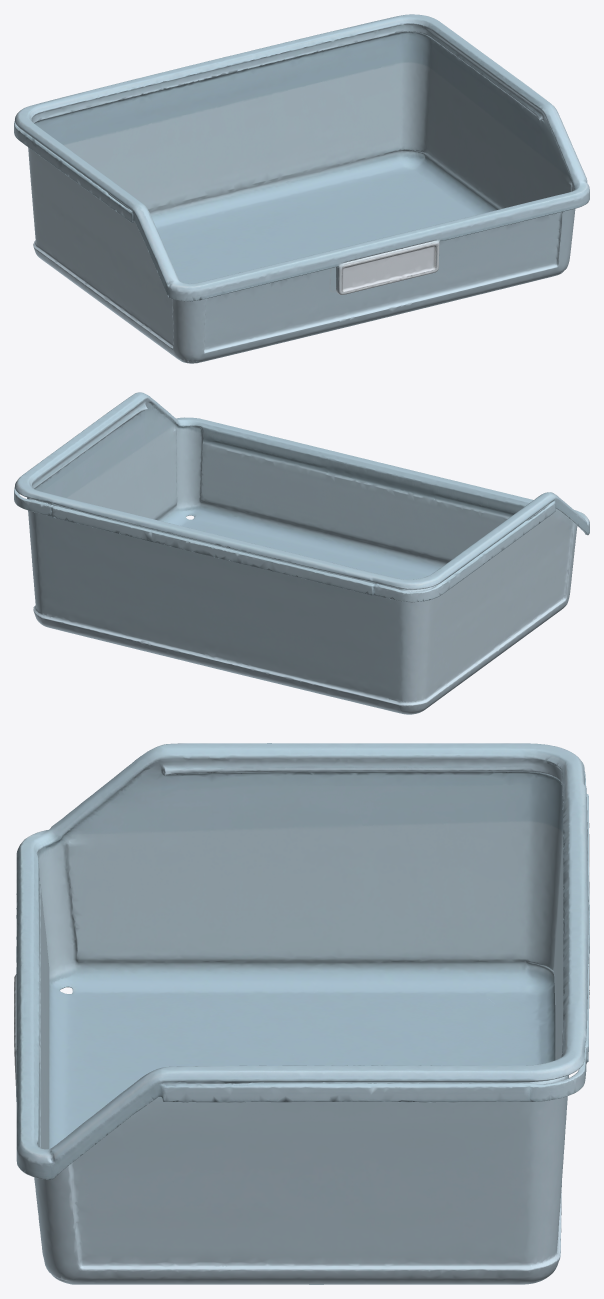
File: Meshy_AI_Mint_Glow_Display_Case_20261118_texture.fbx
The picture shows the model from 3 angles, top to bottom: view 1: azimuth 30°, elevation 25°; view 2: azimuth 150°, elevation 25°; view 3: azimuth 270°, elevation 25°; orthographic projection. The views are drawn at different scales.
Visible parts, largest first — view 1: Mesh_0; view 2: Mesh_0; view 3: Mesh_0.
Part boxes in pixels (x1=…): Mesh_0: x1=14, y1=14, x2=589, y2=363; Mesh_0: x1=14, y1=392, x2=589, y2=714; Mesh_0: x1=14, y1=743, x2=589, y2=1284.
Bounding box in the file's own units: 190 × 61.58 × 138.
Materials: 1 (1 with a texture image).
